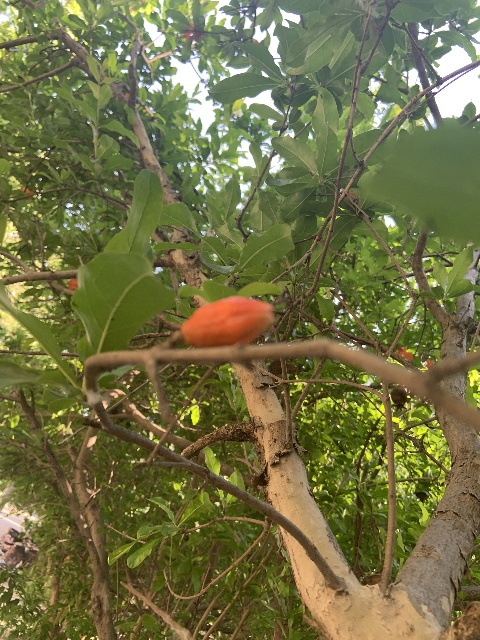bud: (181, 296, 274, 348)
flower: (396, 345, 413, 360), (424, 358, 434, 367)
